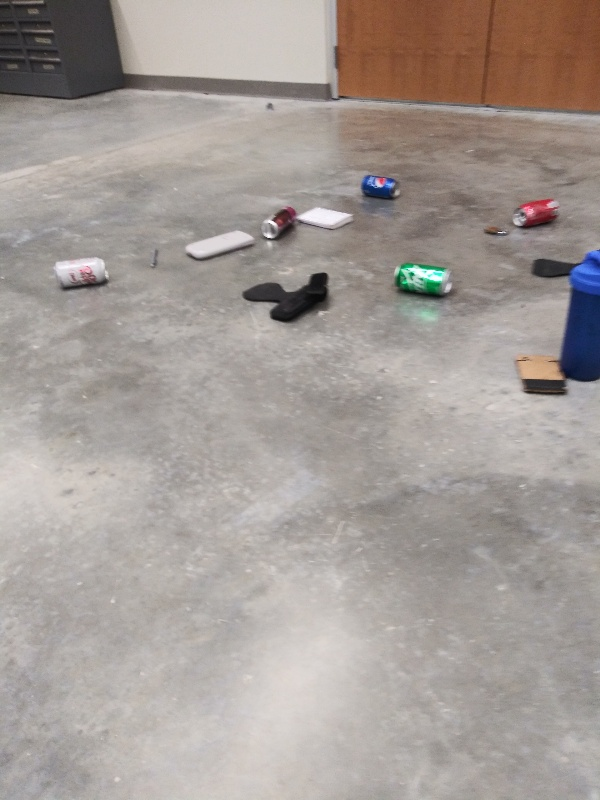can: (387, 259, 459, 303), (51, 251, 113, 293), (509, 194, 562, 232), (258, 203, 304, 244), (354, 171, 407, 203)
